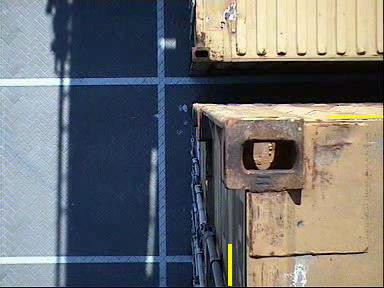groundmarker_2: (123, 46, 166, 127), (131, 254, 192, 286)
